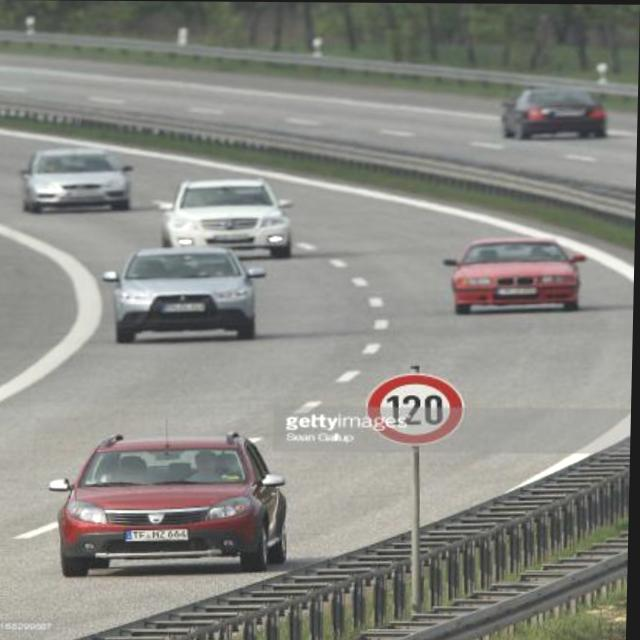limit120: (368, 372, 470, 447)
